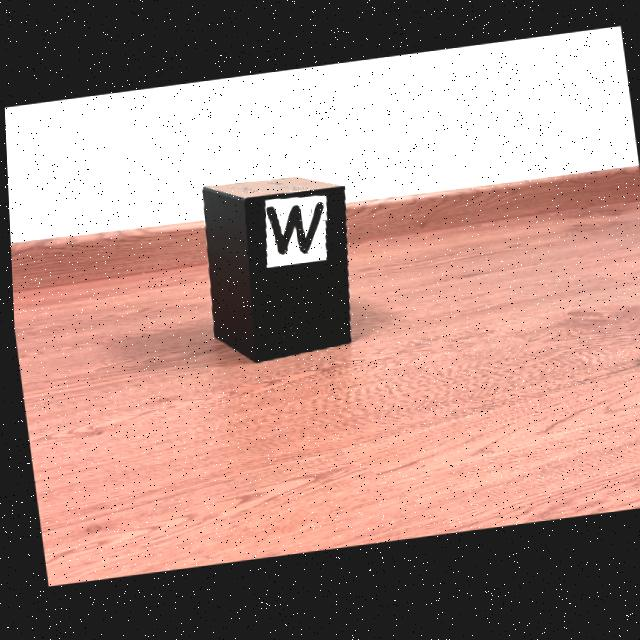W: (264, 205, 322, 257)
